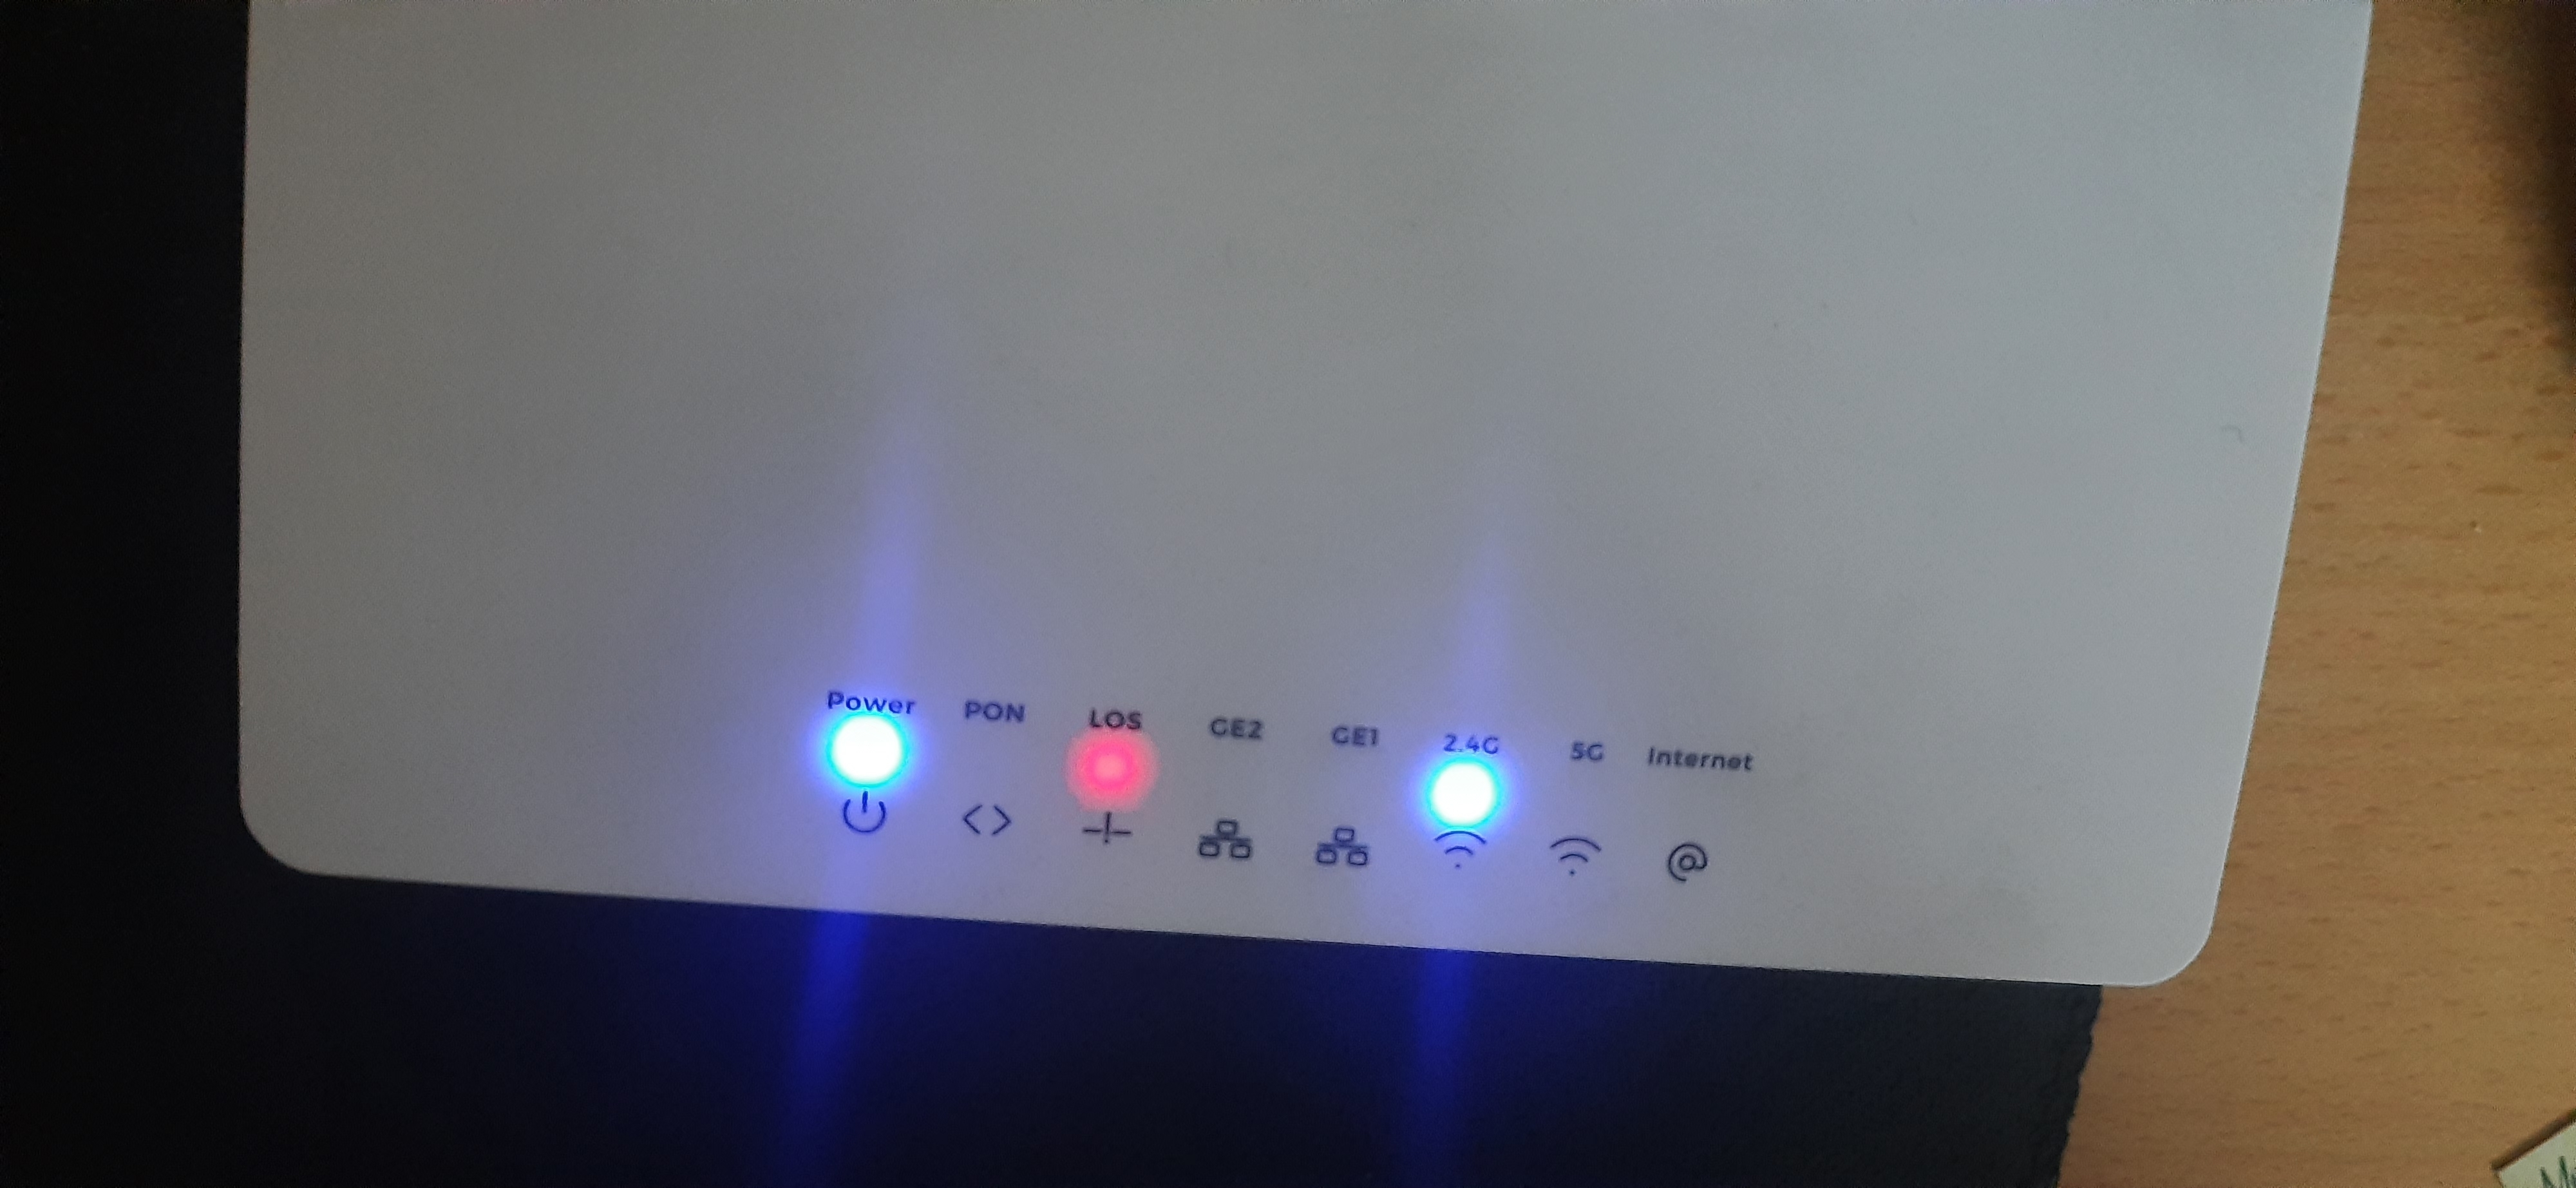LOSConnectionIssue: (1043, 677, 1196, 904)
